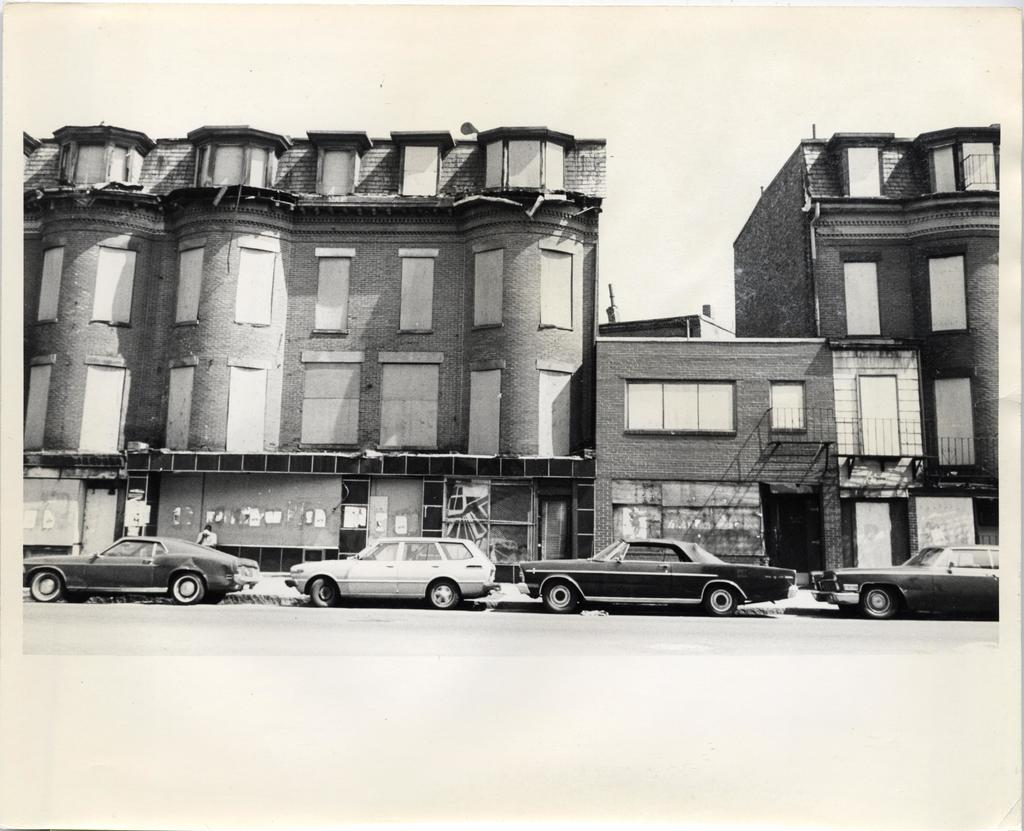Car: (490, 538, 783, 620), (24, 533, 257, 603), (284, 536, 491, 608), (805, 540, 998, 614)
